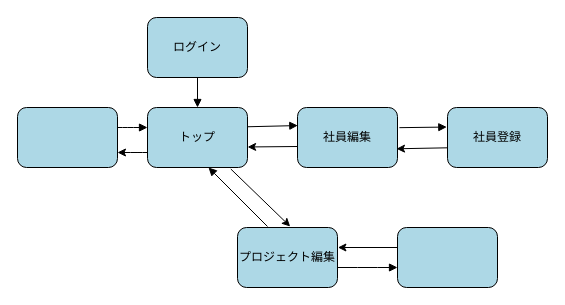
Image size: 565x305. Some labels were removed from this diagram. The centre of each missing label's shape, as x and y in pixels:
"テーブル位置 登録・変更" belongs at [67,137].
"プロジェクト登録" belongs at [447,257].
